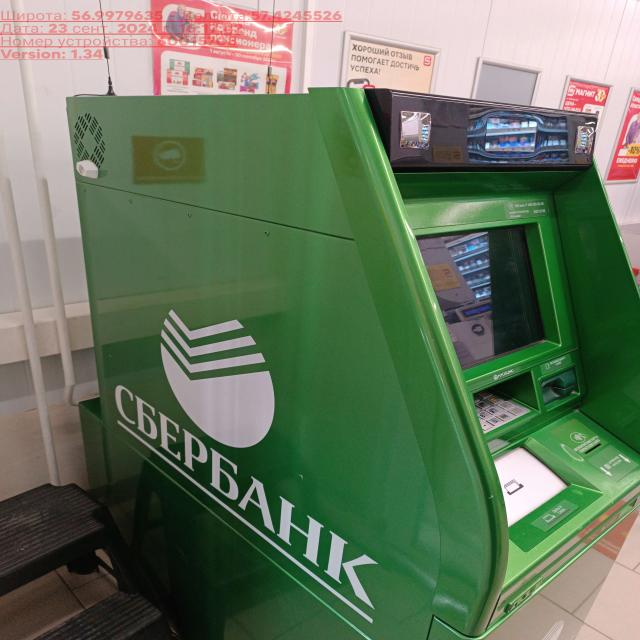bank: (64, 89, 640, 640)
